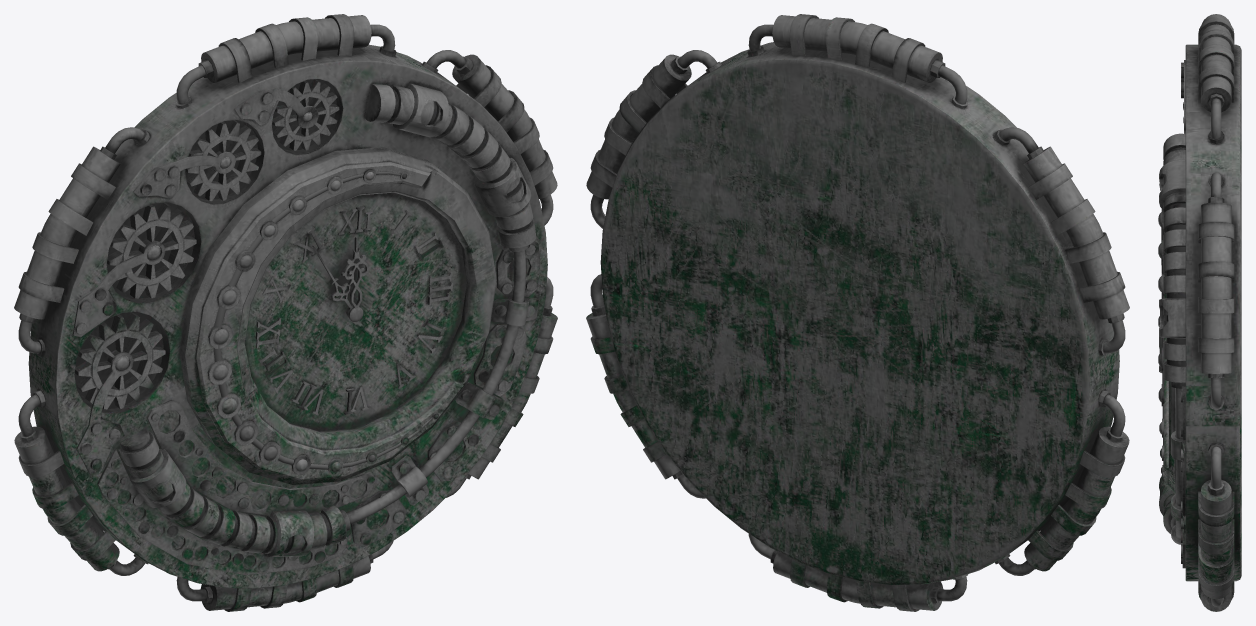
The model's file is Stage2_Cog_Clock.fbx.
The picture shows the model from 3 angles, left to right: view 1: azimuth 30°, elevation 25°; view 2: azimuth 150°, elevation 25°; view 3: azimuth 270°, elevation 25°; orthographic projection. The views are drawn at different scales.
Parts seen in each view (by area): view 1: Object_4; view 2: Object_4; view 3: Object_4.
Part boxes in pixels (left/top/right/bottom): Object_4: left=14, top=14, right=557, bottom=611; Object_4: left=586, top=14, right=1129, bottom=611; Object_4: left=1158, top=14, right=1241, bottom=611.
Bounding box in the file's own units: 881 × 907 × 125.
Materials: 1 (1 with a texture image).
